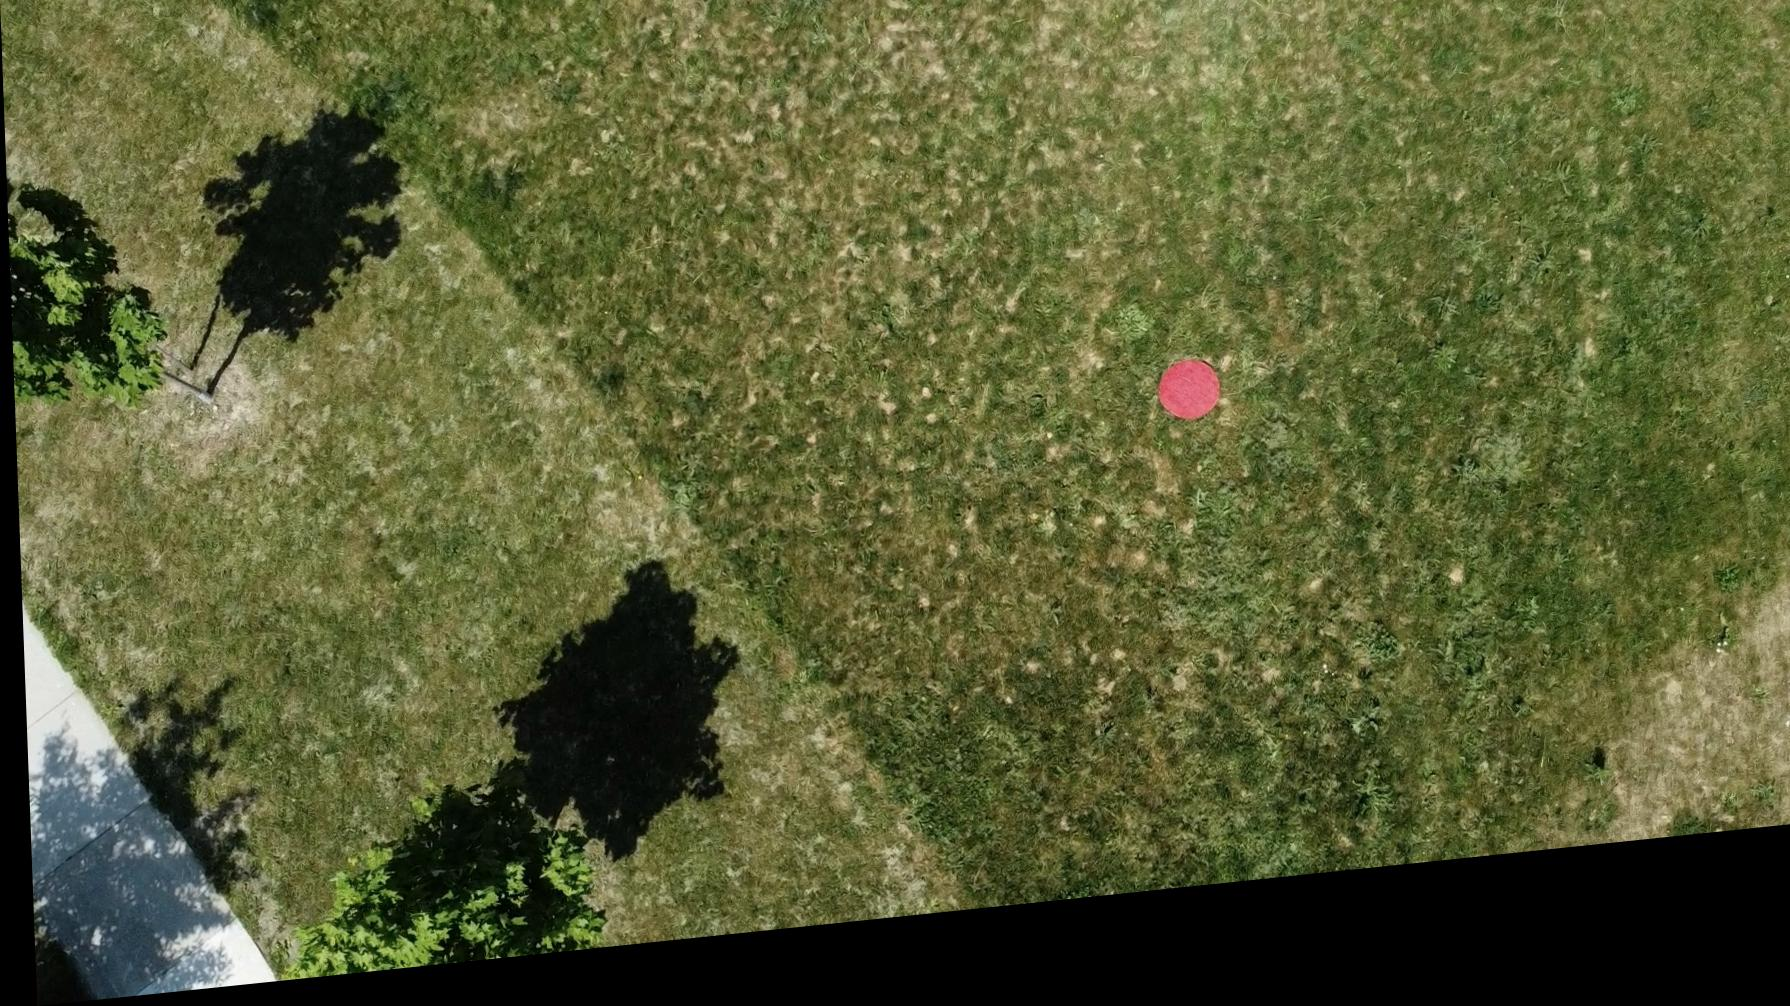Red: (1151, 379, 1222, 451)
